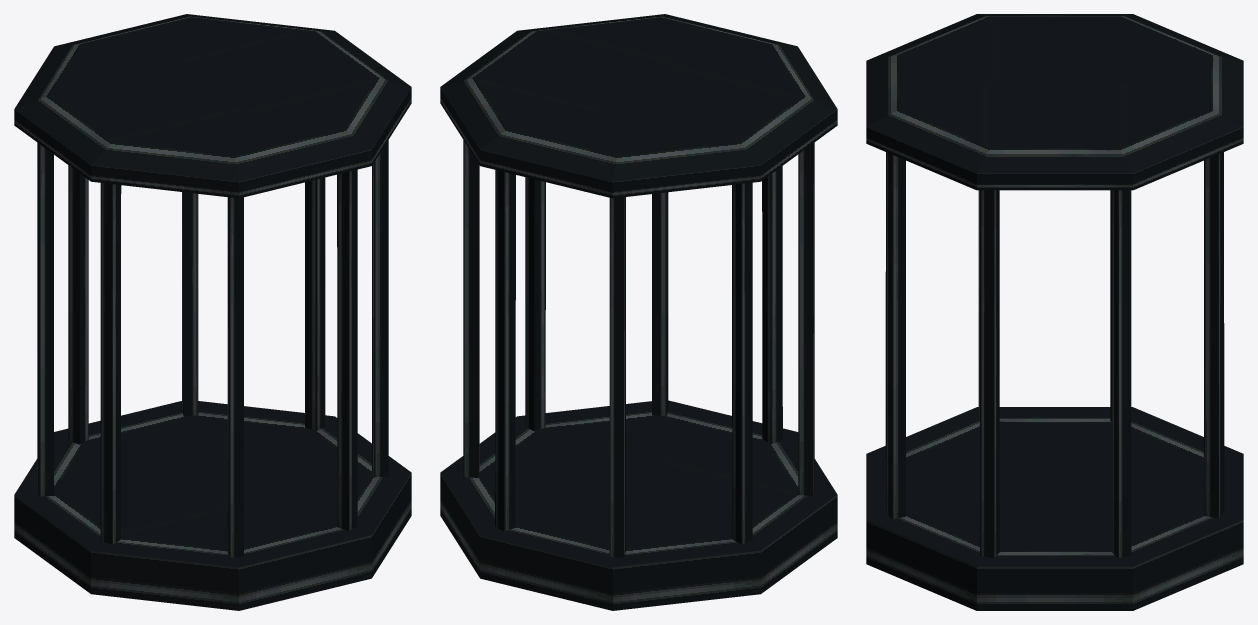
The model's file is octagon_01.fbx.
3 renders of one model, left to right at view 1: azimuth 30°, elevation 25°; view 2: azimuth 150°, elevation 25°; view 3: azimuth 270°, elevation 25°, orthographic.
Visible parts, largest first — view 1: mesh_0; view 2: mesh_0; view 3: mesh_0.
Boxes of the visible parts, x1,y1,x2,y2 form: mesh_0: [14, 14, 411, 610]; mesh_0: [440, 14, 837, 610]; mesh_0: [866, 14, 1243, 610].
Size of the model in its own units: 46.19 by 60.63 by 46.19.
1 material, 1 textured.
